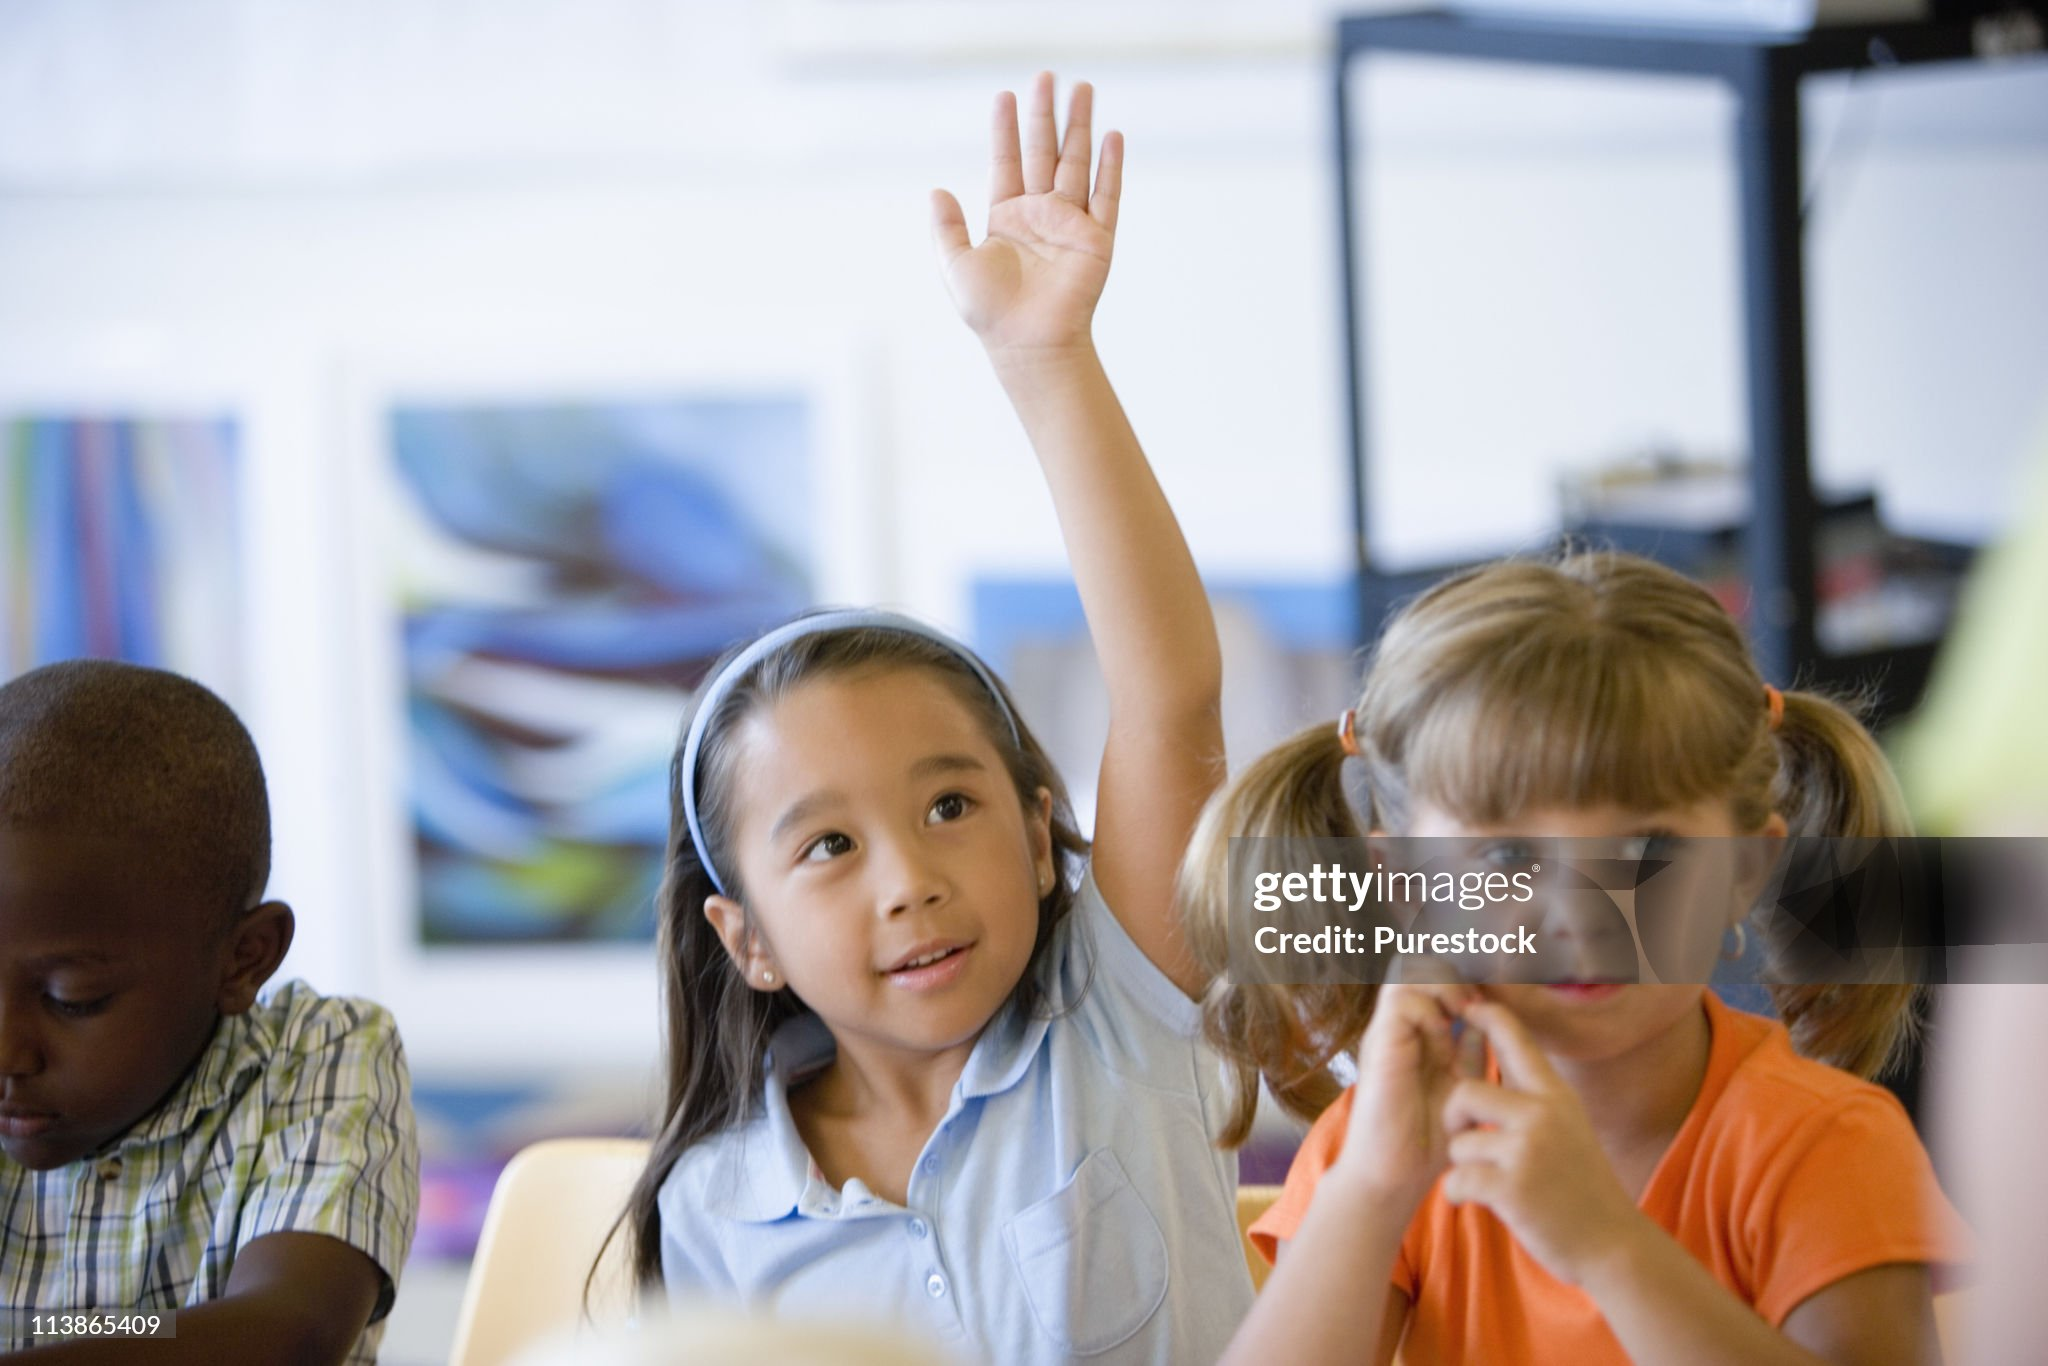entre30-50-porcento: (0, 30, 2011, 1366)
